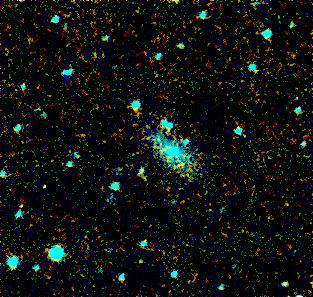star: (31, 173, 61, 203)
